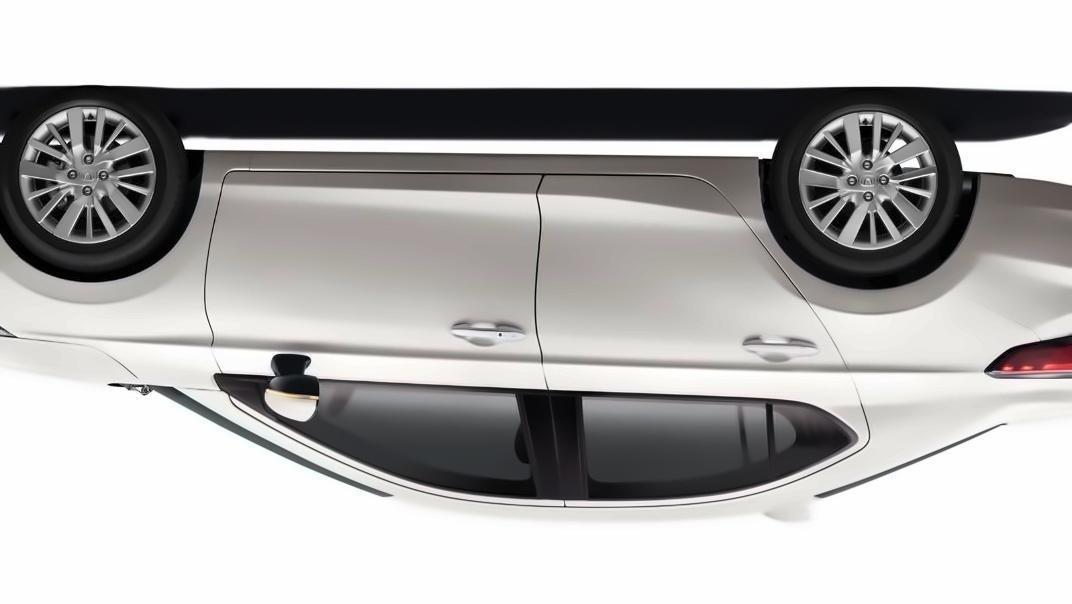Car hood: (0, 335, 140, 393)
Driver-s door - -F-R-: (197, 120, 577, 531)
Fender - -F-R-: (0, 144, 253, 391)
Fender - -R-R-: (718, 135, 1009, 491)
Passenger-s door - -R-R-: (528, 120, 874, 533)
Rear bumper: (944, 155, 1072, 317)
Rear light - -R-: (982, 331, 1072, 383)
Side bumper - -R-: (188, 123, 774, 241)
Side mirror - -R-: (252, 350, 326, 426)
